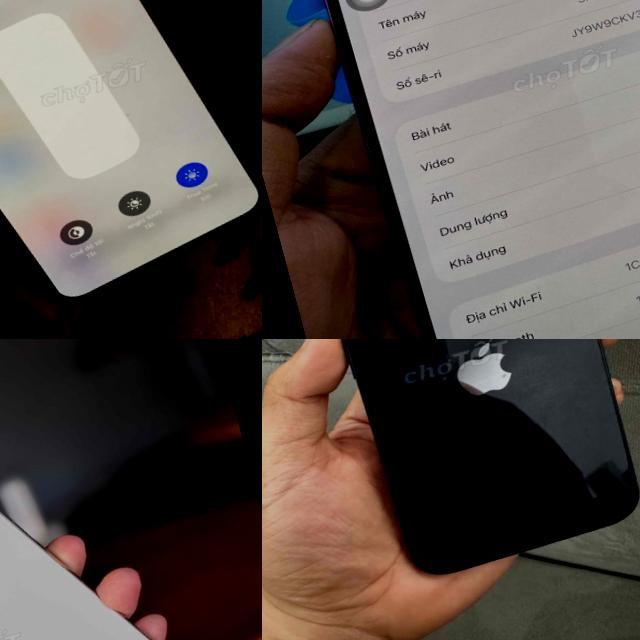gen_12_13: (274, 339, 640, 620)
gen_16: (279, 0, 640, 339)
gen_x_xs: (0, 0, 262, 339)
